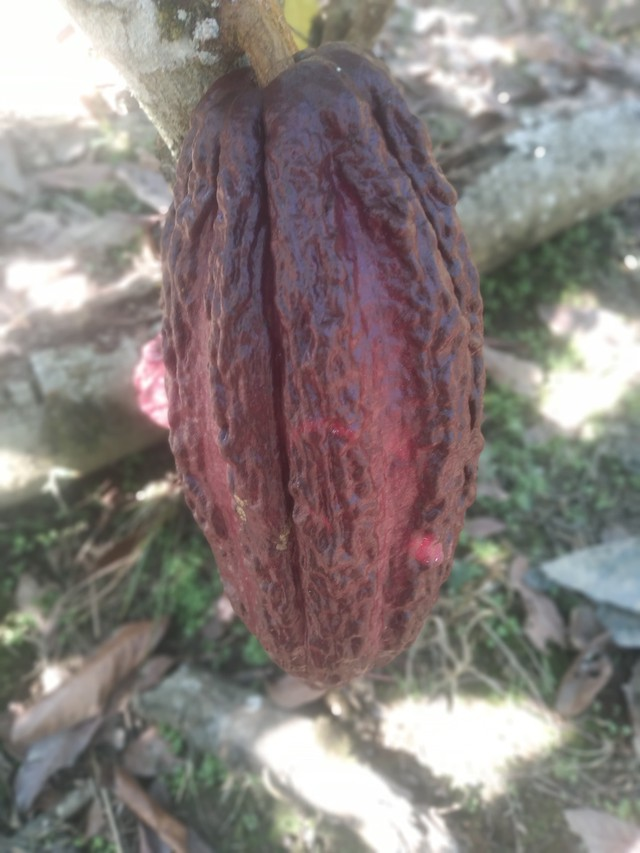Health: (123, 17, 523, 700)
